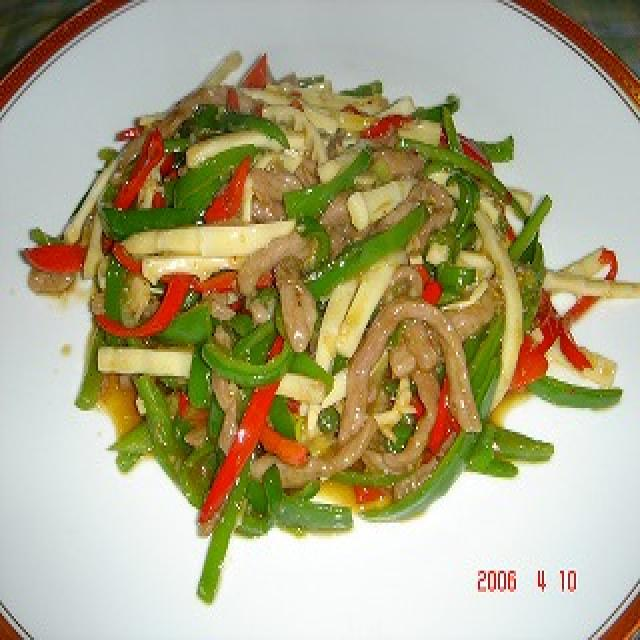牛肉菜式: (0, 0, 640, 555)
